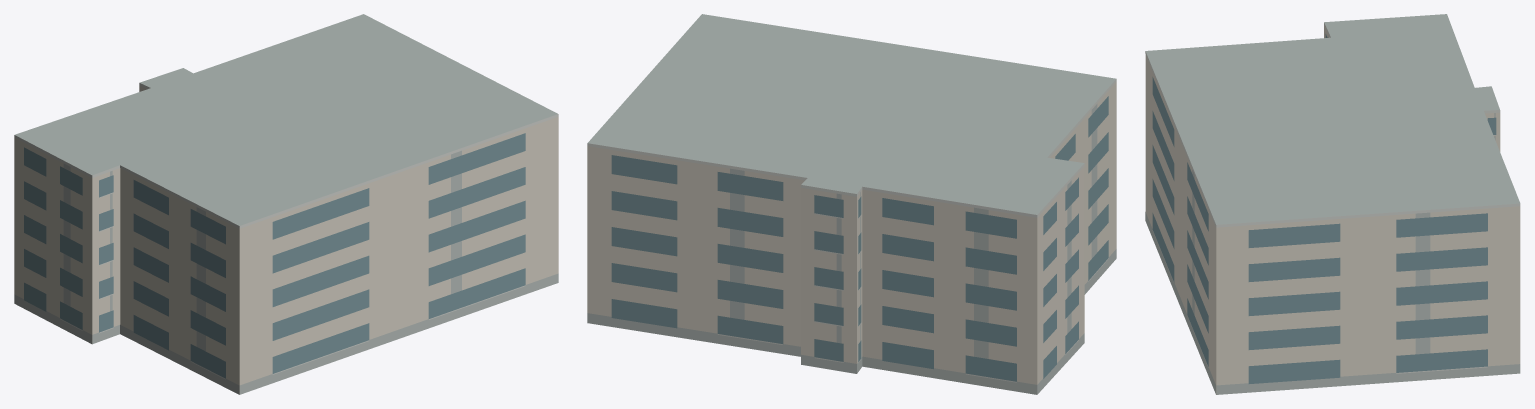
The model's file is survey-upis-32697899.glb.
3 views of the same model, side by side, from view 1: azimuth 30°, elevation 25°; view 2: azimuth 150°, elevation 25°; view 3: azimuth 270°, elevation 25° (orthographic). The views are drawn at different scales.
Parts seen in each view (by area): view 1: survey-upis-32697899.tmp; view 2: survey-upis-32697899.tmp; view 3: survey-upis-32697899.tmp.
Part boxes in pixels (box(x1,y1,x2,y2)): survey-upis-32697899.tmp: box(14, 14, 558, 394); survey-upis-32697899.tmp: box(587, 14, 1116, 394); survey-upis-32697899.tmp: box(1145, 14, 1520, 394).
Size of the model in its own units: 40.59 by 15.25 by 30.49.
